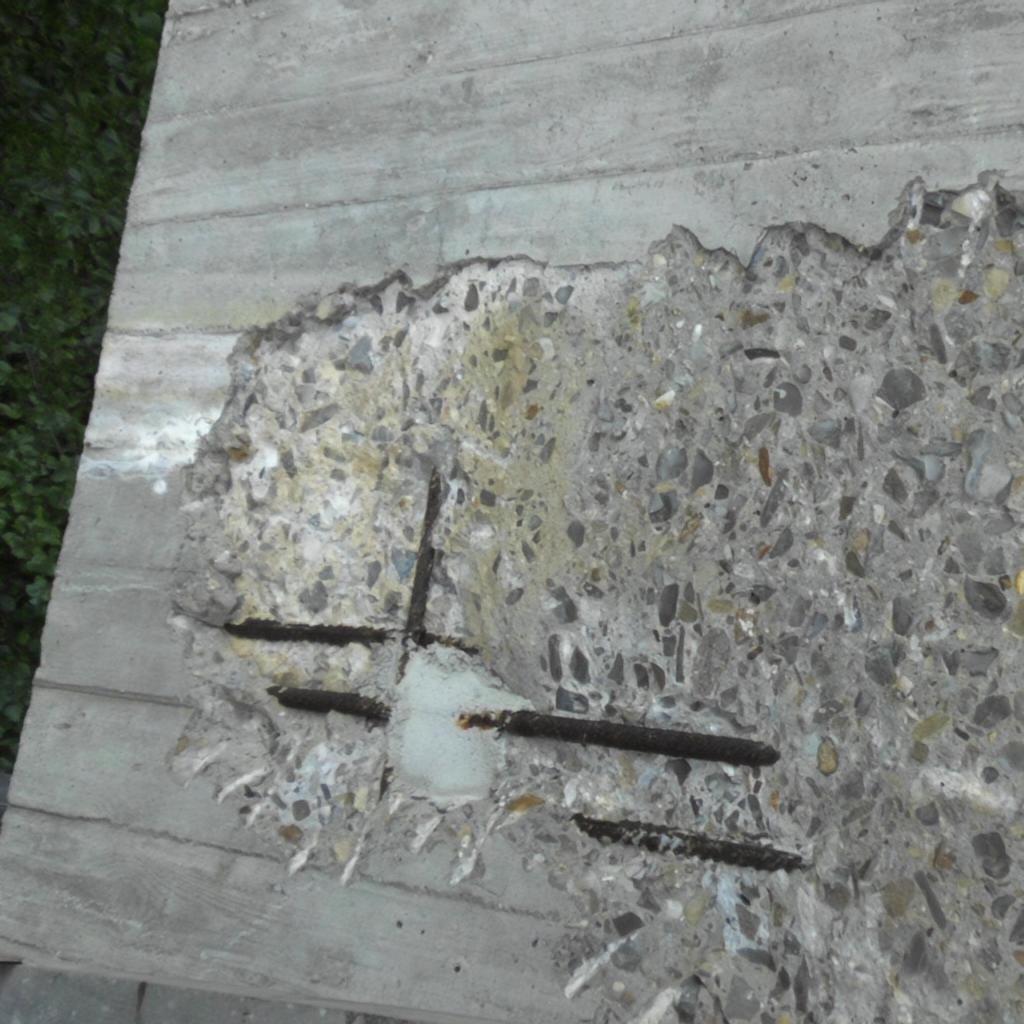exposed_rebar: (458, 710, 780, 766), (572, 814, 808, 871), (402, 468, 468, 649), (224, 618, 394, 645), (268, 686, 390, 722)
spalling: (176, 182, 1024, 1024)
